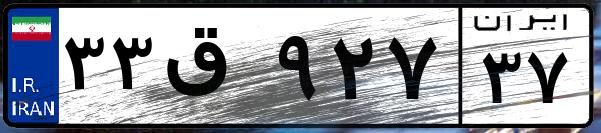2: (330, 28, 385, 110)
3: (57, 26, 110, 100), (475, 38, 525, 113), (110, 28, 158, 98)
7: (385, 28, 445, 110), (525, 38, 570, 115)
9: (270, 28, 330, 110)
ق: (158, 20, 270, 120)
